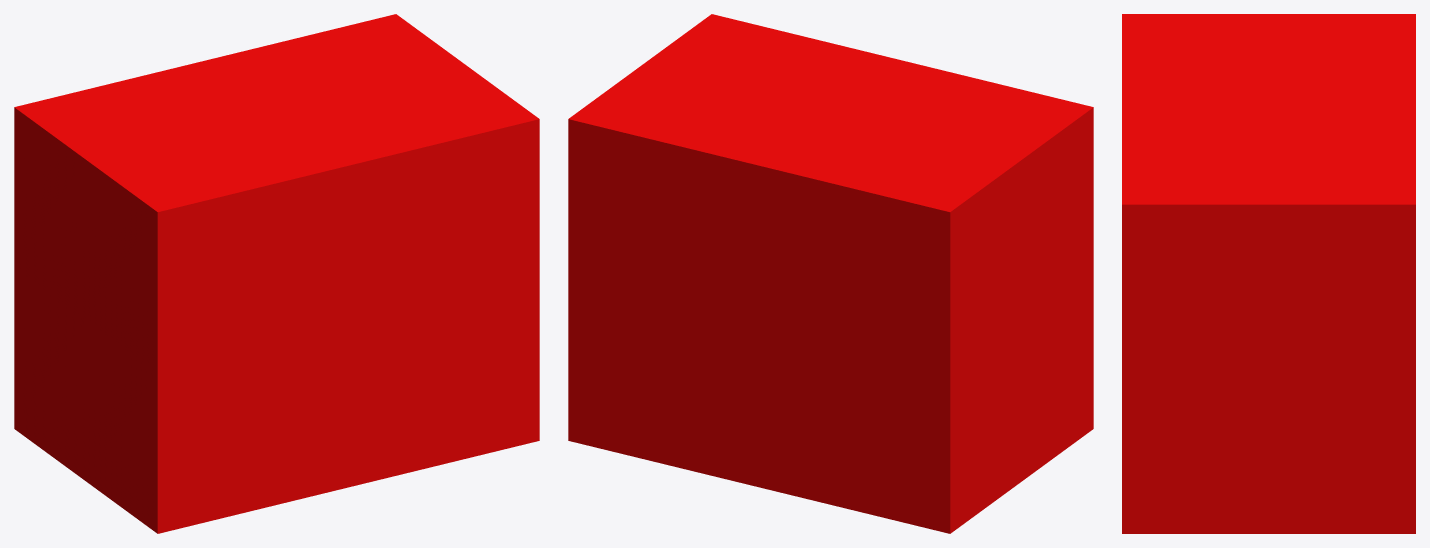
File: mid_phalanx4_lvs_col.dae
3 renders of one model, left to right at view 1: azimuth 30°, elevation 25°; view 2: azimuth 150°, elevation 25°; view 3: azimuth 270°, elevation 25°, orthographic. The views are drawn at different scales.
Visible parts, largest first — view 1: node0; view 2: node0; view 3: node0.
Boxes of the visible parts, x1,y1,x2,y2 form: node0: (14, 14, 539, 533); node0: (568, 14, 1093, 533); node0: (1122, 14, 1415, 533).
Bounding box in the file's own units: 0.0112 × 0.009 × 0.00728.
